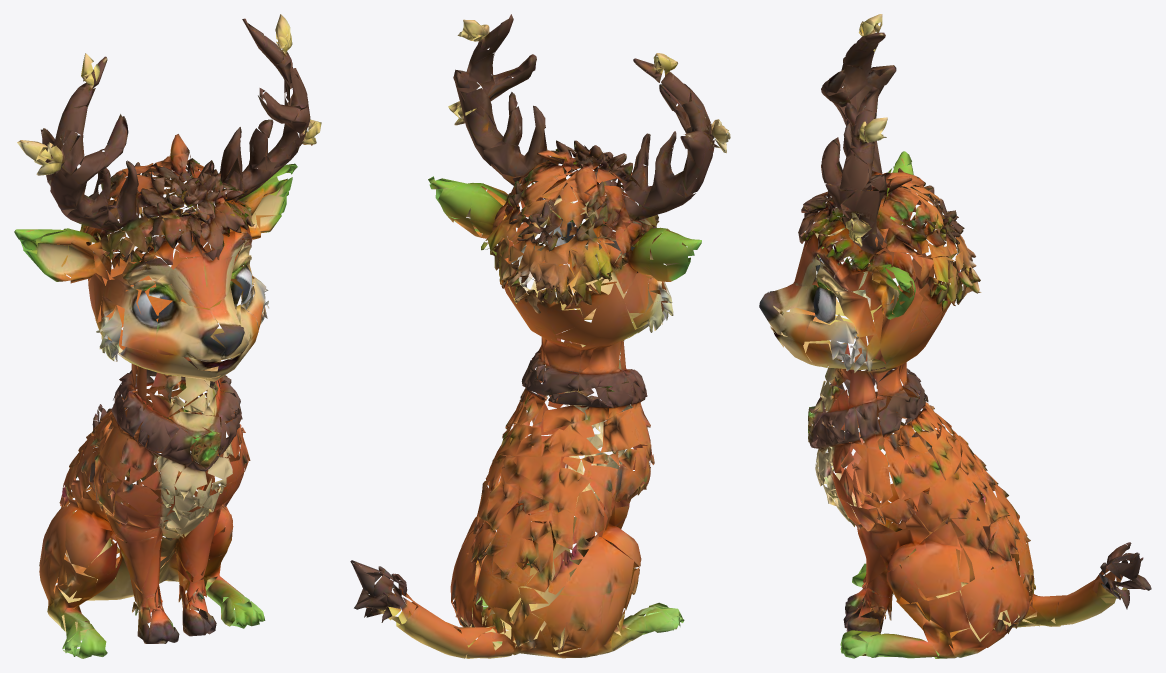
Rendered from ods.glb.
The picture shows the model from 3 angles, left to right: view 1: azimuth 30°, elevation 25°; view 2: azimuth 150°, elevation 25°; view 3: azimuth 270°, elevation 25°; orthographic projection. The views are drawn at different scales.
Parts seen in each view (by area): view 1: Object_4, Object_5, Object_6, Object_7, Object_9, Object_8, Object_10; view 2: Object_8, Object_5, Object_4, Object_6, Object_7, Object_9; view 3: Object_5, Object_4, Object_7, Object_8, Object_6, Object_9.
Part boxes in pixels (bbox=[...]): Object_4: bbox=[18, 14, 315, 634]; Object_5: bbox=[37, 35, 297, 652]; Object_6: bbox=[34, 41, 317, 656]; Object_7: bbox=[54, 95, 310, 631]; Object_9: bbox=[17, 18, 321, 658]; Object_8: bbox=[14, 68, 308, 649]; Object_10: bbox=[46, 54, 308, 618]; Object_8: bbox=[364, 47, 701, 658]; Object_5: bbox=[351, 24, 714, 658]; Object_4: bbox=[350, 19, 730, 652]; Object_6: bbox=[374, 35, 728, 658]; Object_7: bbox=[364, 61, 690, 647]; Object_9: bbox=[364, 14, 727, 645]; Object_5: bbox=[770, 71, 1145, 639]; Object_4: bbox=[759, 14, 1151, 633]; Object_7: bbox=[766, 69, 1129, 657]; Object_8: bbox=[827, 87, 1133, 658]; Object_6: bbox=[766, 21, 1131, 658]; Object_9: bbox=[842, 23, 1143, 655].
Size of the model in its own units: 0.9982 by 1.9 by 1.19.
Materials: 1 (1 with a texture image).
